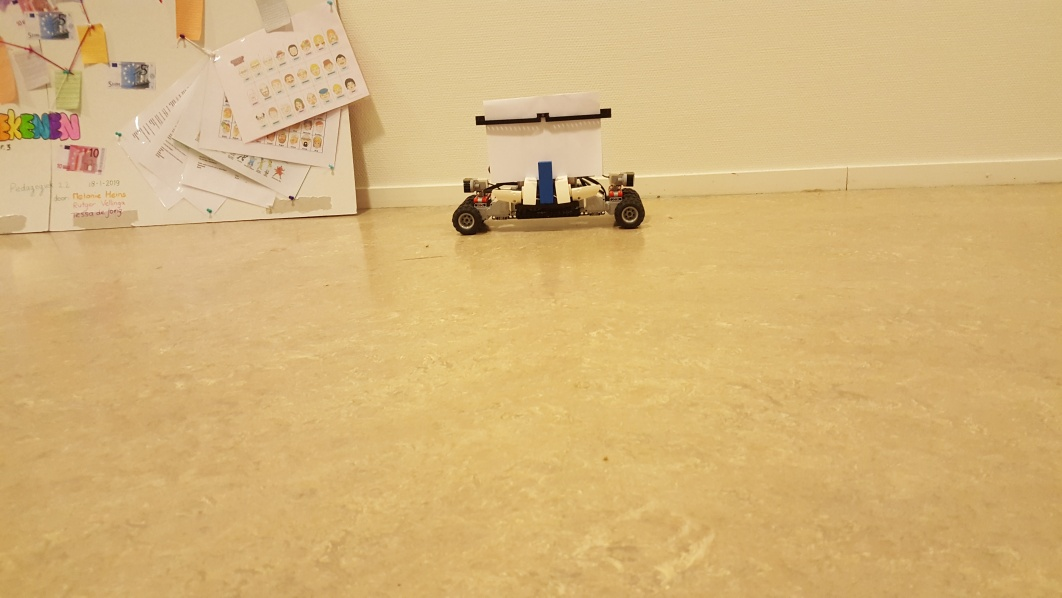car: (449, 88, 646, 235)
